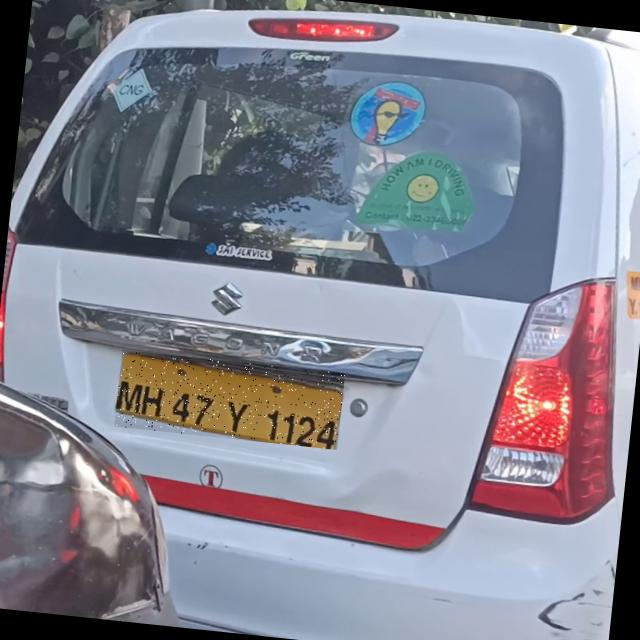Plate: (115, 351, 346, 451)
